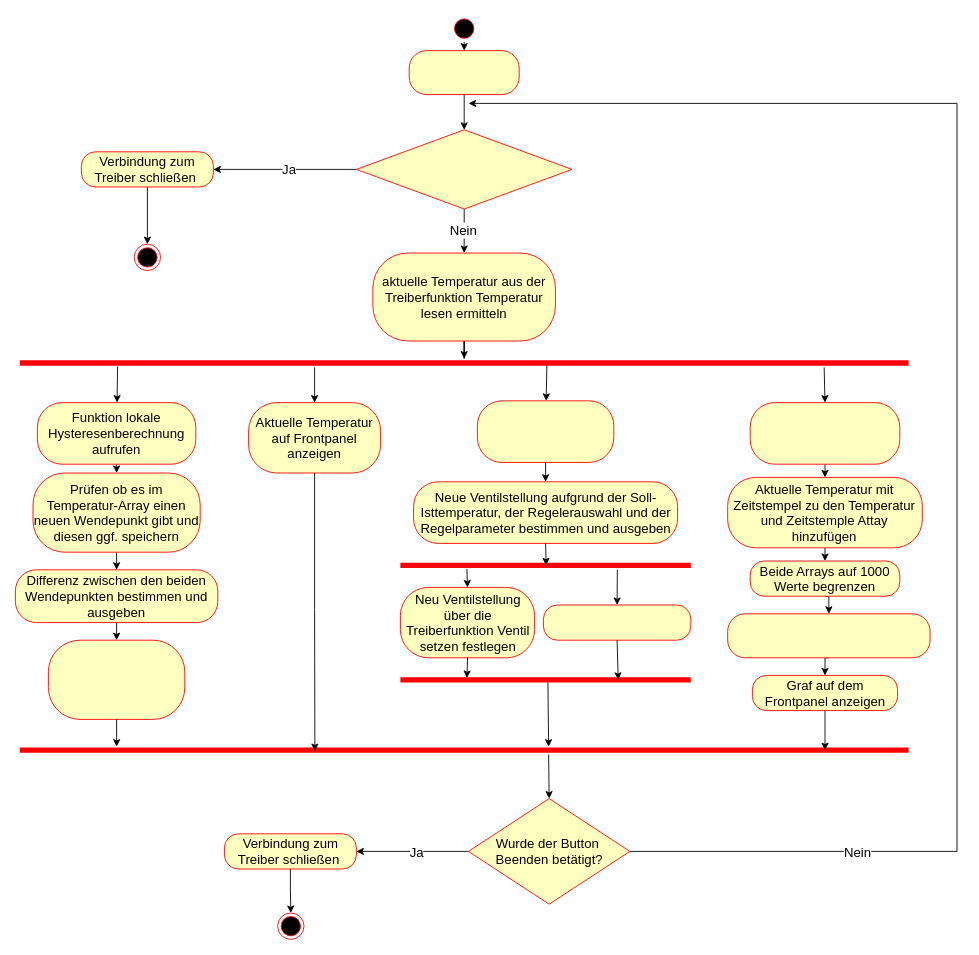
The diagram is 979 pixels wide and 955 high, and some of its shapes have lost their labels. Each missing label, with the centre of its shape:
"Beide Arrays zu einem Graf zusammensetzen und ausgeben" goes at point 828,635.
"Funktion Temperaturregler aufrufen" goes at point 545,431.
"Funktion ZeitgrafBehandlung aufrufen" goes at point 824,433.
"Im Frontpanel neue Ventilstellung anzeigen" goes at point 617,622.
"lokale Hysterese auf dem Frontpanel anzeigen" goes at point 116,679.
"Sind im letzten Zyklus Fehler aufgetreten?" goes at point 464,169.
"Verbindung zum Treiber aufbauen" goes at point 463,72.
